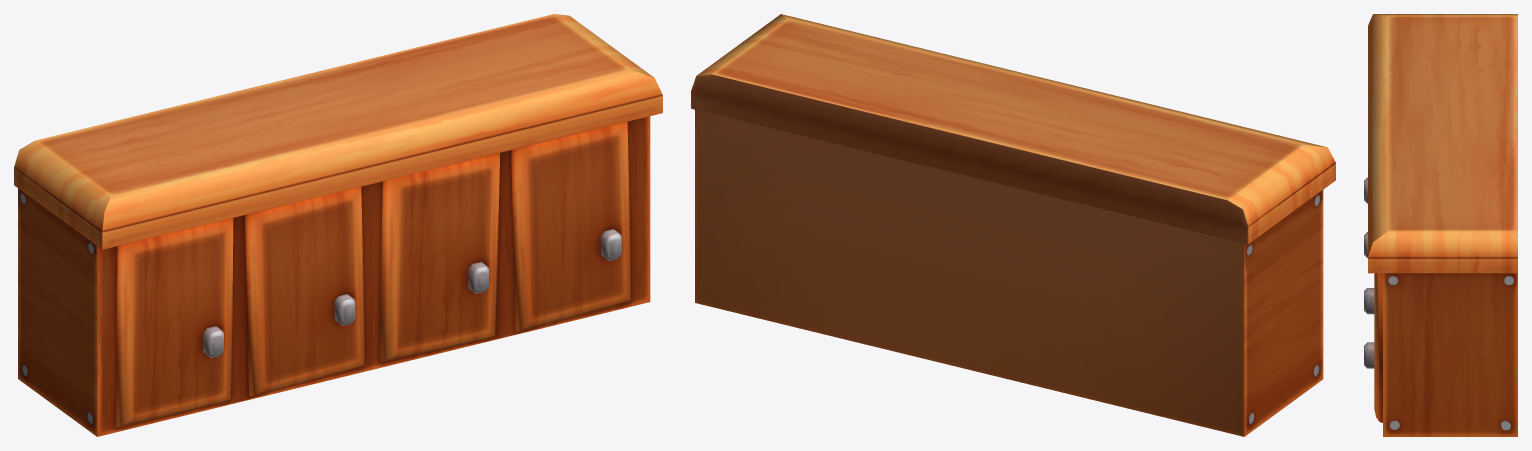
File: WritingDesk01_2.FBX
3 views of the same model, side by side, from view 1: azimuth 30°, elevation 25°; view 2: azimuth 150°, elevation 25°; view 3: azimuth 270°, elevation 25° (orthographic). The views are drawn at different scales.
Parts seen in each view (by area): view 1: WritingDesk01_2; view 2: WritingDesk01_2; view 3: WritingDesk01_2.
Boxes of the visible parts, box(x1,y1,x2,y2) form: WritingDesk01_2: box(14, 14, 662, 436); WritingDesk01_2: box(691, 14, 1335, 436); WritingDesk01_2: box(1364, 14, 1517, 436).
Size of what is drawn, in the model's own units: 1.47 by 0.5855 by 0.4105.
